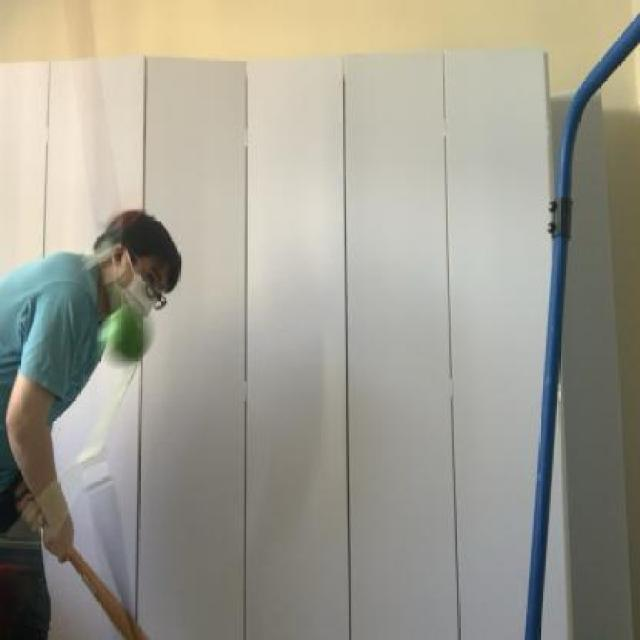baseball: (104, 299, 159, 366)
